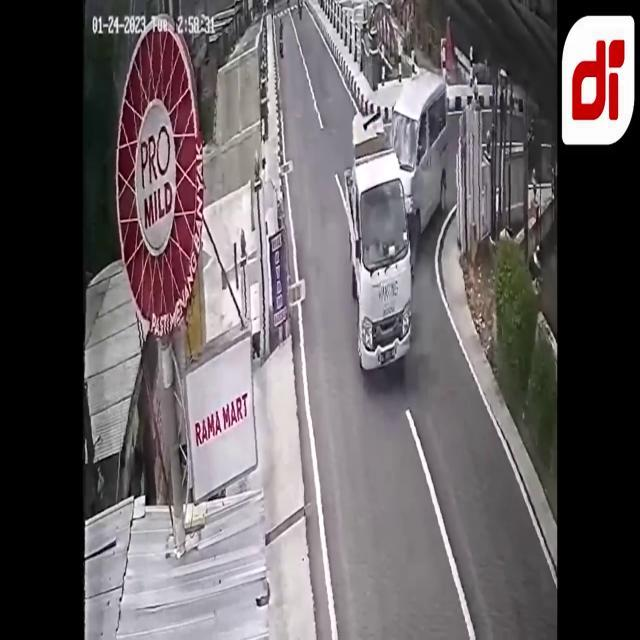multiple_accident: (303, 35, 505, 383)
